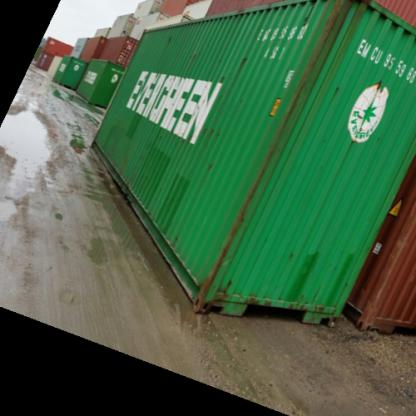Damage: (270, 2, 342, 177), (200, 169, 270, 300), (276, 286, 329, 322)
